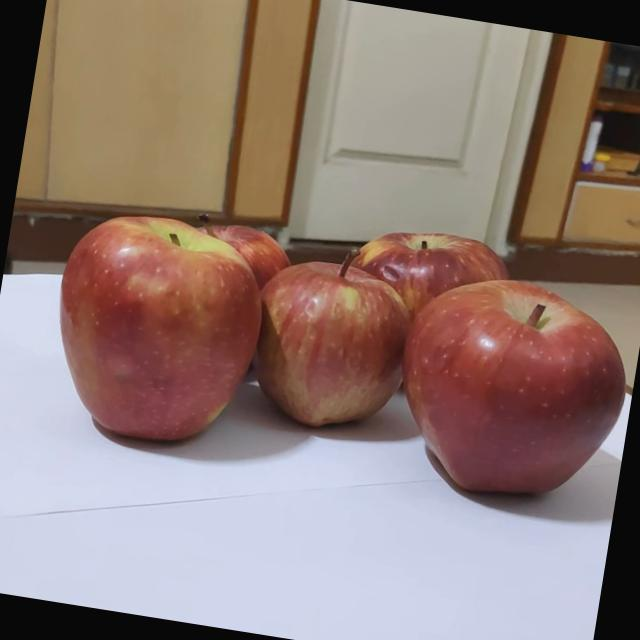apple: (372, 263, 640, 544), (336, 208, 558, 422), (45, 205, 258, 425), (228, 246, 418, 436), (162, 200, 324, 357)
